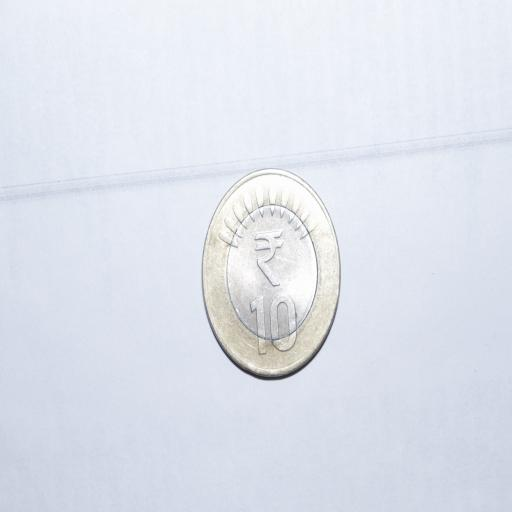rupee10: (195, 164, 343, 381)
